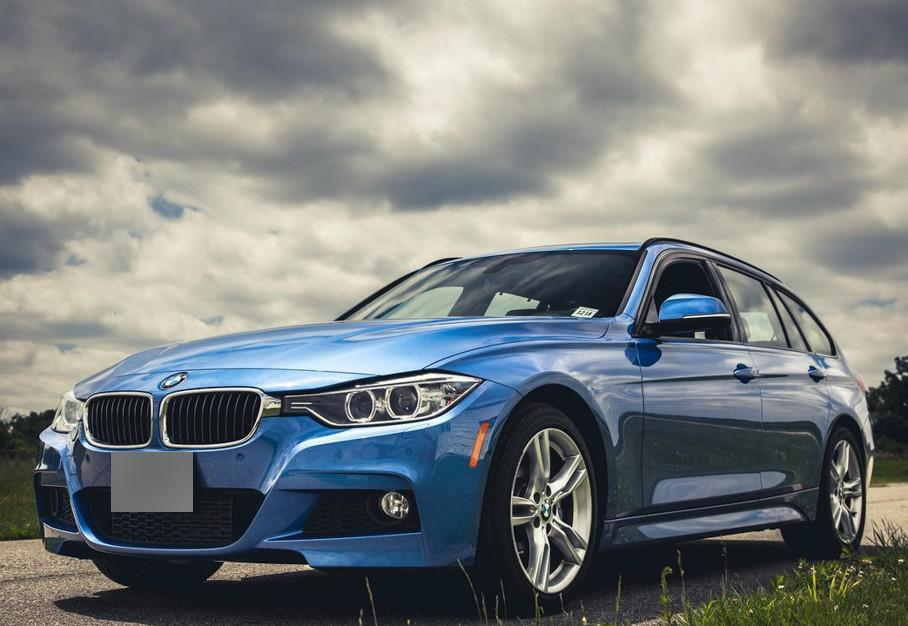Wagon: (34, 242, 874, 606)
